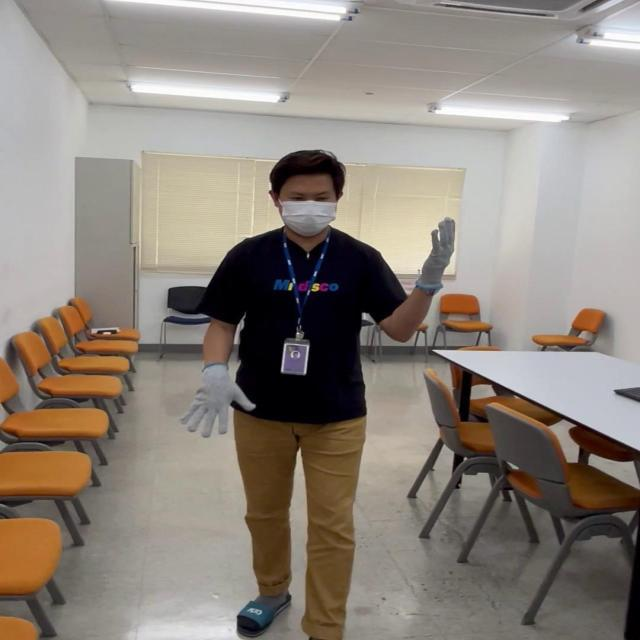gloved_hand: (181, 365, 257, 432), (398, 214, 455, 300)
